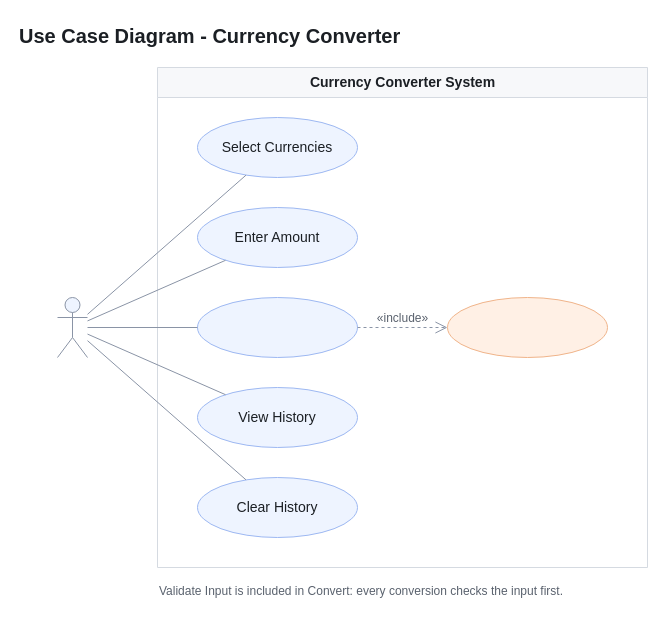
Some shapes in this 665 by 620 pixel diagram are drawn without their labels. The shapes that lost their labels are listed below. From the top down, each one's centre as x and y in pixels, then its label:
At (x=72, y=327): "User".
At (x=277, y=327): "Convert".
At (x=527, y=327): "Validate Input".
